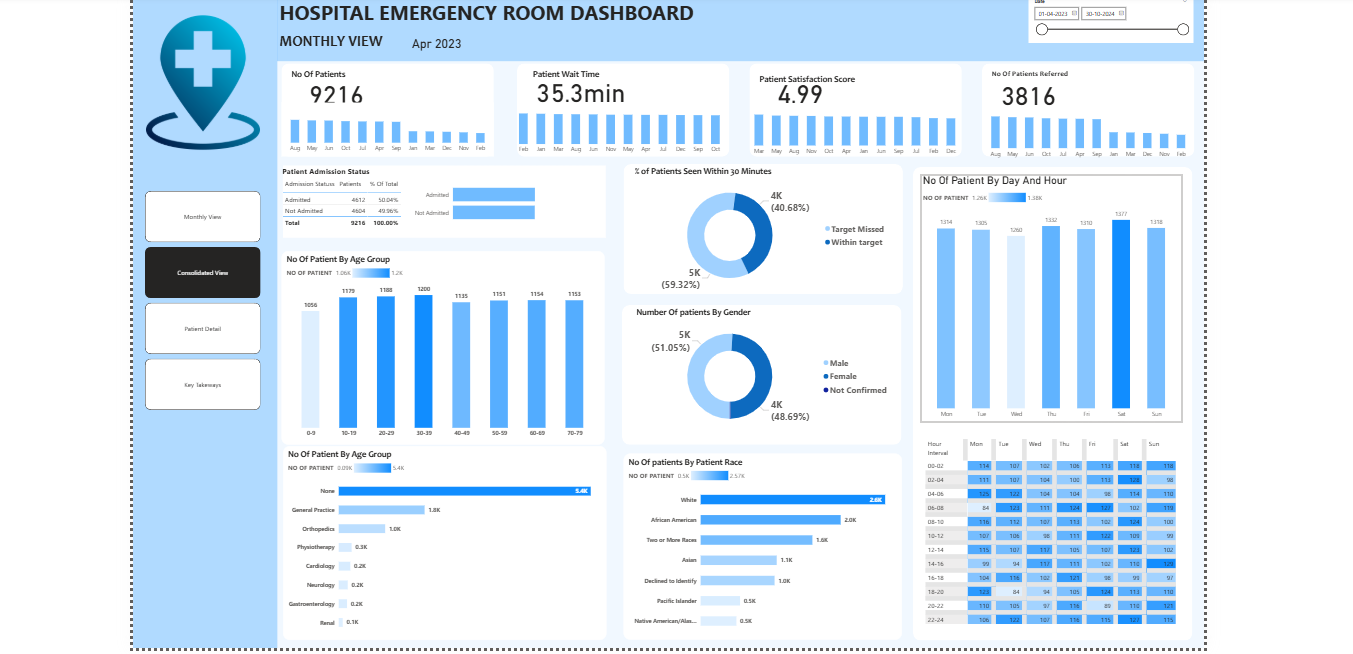

Layout of this report page (visuals, bound fields, positions):
{"tool":"powerbi","page":{"name":"Consolidated View","canvas":[2300,1400],"ordinal":1},"visuals":[{"type":"card","fields":{"Values":["Hospital ER_Data.NO OF PATIENT"]},"box":[176,162,518,88],"z":0,"group":"g1"},{"type":"shape","box":[825.3,146,456,200],"z":0},{"type":"shape","box":[0,0,310,1402],"z":1000},{"type":"areaChart","fields":{"Category":["Date Table.Date.Variation.Date Hierarchy.Day"],"Y":["Hospital ER_Data.NO OF PATIENT"]},"box":[496,364,456,140],"z":1000,"group":"g1"},{"type":"shape","box":[309.2,0,1990.5,140],"z":2000},{"type":"textbox","box":[309.2,0,1990.5,70.9],"z":3000},{"type":"textbox","box":[310,70,282,70],"z":4000},{"type":"shape","box":[320,146,456,200],"z":5000},{"type":"slicer","fields":{"Values":["Date Table.Date"]},"box":[1921.9,0,353.1,100],"z":6000},{"type":"textbox","box":[336,150,366,80],"z":7000},{"type":"card","fields":{"Values":["Hospital ER_Data.Avg Wait Time"]},"box":[702,158,518,88],"z":8000},{"type":"card","fields":{"Values":["Min(Date Table.MONTH_YEAR)"]},"box":[548,70,208,58],"z":9000},{"type":"group","id":"g1","title":"Group 1","box":[176,162,776,342],"z":10000},{"type":"shape","box":[1323.7,146,456,200],"z":11000},{"type":"shape","box":[1822,146,456,200],"z":12000},{"type":"textbox","box":[854,150,366,80],"z":13000},{"type":"columnChart","fields":{"Category":["Date Table.Month_name"],"Y":["Hospital ER_Data.NO OF PATIENT"]},"box":[320,230,456,116],"z":14000},{"type":"columnChart","fields":{"Category":["Date Table.Month_name"],"Y":["Avg(Hospital ER_Data.Patient Waittime)"]},"box":[809.4,231.2,471.9,115.6],"z":15000},{"type":"textbox","box":[1840,150,340,54],"z":16000},{"type":"card","fields":{"Values":["Avg(Hospital ER_Data.Patient Satisfaction Score)"]},"box":[1324,154,218,98],"z":17000},{"type":"columnChart","fields":{"Category":["Date Table.Month_name"],"Y":["Avg(Hospital ER_Data.Patient Satisfaction Score)"]},"box":[1315.6,231.2,471.9,118.8],"z":18000},{"type":"textbox","box":[1340,160,344,52],"z":19000},{"type":"columnChart","fields":{"Category":["Date Table.Month_name"],"Y":["Hospital ER_Data.NO OF PATIENT"]},"box":[1821.9,212.5,456.2,143.8],"z":20000},{"type":"card","fields":{"Values":["Hospital ER_Data.no of patients referred"]},"box":[1742,118,360,178],"z":21000},{"type":"shape","box":[320.7,365.5,693.1,155.2],"z":22000},{"type":"tableEx","title":"Patient Admission Status","fields":{"Values":["Hospital ER_Data.Admission Statuss","CountNonNull(Hospital ER_Data.Admission Statuss)","Divide(CountNonNull(Hospital ER_Data.Admission Statuss), ScopedEval(CountNonNull(Hospital ER_Data.Admission Statuss), []"]},"box":[316,364,276,140],"z":23000},{"type":"clusteredBarChart","fields":{"Category":["Hospital ER_Data.Admission Statuss"],"Y":["CountNonNull(Hospital ER_Data.Admission Statuss)"]},"box":[592,364,328,156],"z":24000},{"type":"clusteredColumnChart","title":"No Of Patient By Age Group","fields":{"Category":["Hospital ER_Data.Age Group"],"Y":["Hospital ER_Data.NO OF PATIENT"]},"box":[320,548,694,416],"z":25000},{"type":"clusteredBarChart","title":"No Of Patient By Age Group","fields":{"Category":["Hospital ER_Data.Department Referral"],"Y":["Hospital ER_Data.NO OF PATIENT"]},"box":[320.8,966,694.3,417],"z":26000},{"type":"shape","box":[1051.7,362.1,600,279.3],"z":27000},{"type":"donutChart","title":"% of Patients Seen Within 30 Minutes","fields":{"Category":["Hospital ER_Data.waitte status"],"Y":["Hospital ER_Data.NO OF PATIENT"]},"box":[1072.4,365.5,555.2,275.9],"z":28000},{"type":"shape","box":[1050.9,662.3,600,300],"z":29000},{"type":"donutChart","title":"Number Of patients By Gender","fields":{"Y":["Hospital ER_Data.NO OF PATIENT"],"Category":["Hospital ER_Data.Patient Gender"]},"box":[1075.5,666,556.6,275.5],"z":30000},{"type":"clusteredBarChart","title":"No Of patients By Patient Race","fields":{"Y":["Hospital ER_Data.NO OF PATIENT"],"Category":["Hospital ER_Data.Patient Race"]},"box":[1052.8,983,598.1,400],"z":31000},{"type":"shape","box":[1673.6,366,600,1017],"z":32000},{"type":"pivotTable","fields":{"Rows":["Hospital ER_Data.Hour Interval"],"Columns":["Date Table.Day Name"],"Values":["Hospital ER_Data.NO OF PATIENT"]},"box":[1692.5,941.5,562.3,441.5],"z":33000},{"type":"clusteredColumnChart","title":"No Of Patient By  Day And Hour","fields":{"Category":["Date Table.Day Name"],"Y":["Hospital ER_Data.NO OF PATIENT"]},"box":[1692.5,383,562.3,532.1],"z":34000},{"type":"image","box":[0,34.5,300,300],"z":35000},{"type":"pageNavigator","box":[26,418,248,470],"z":36000}]}

Visuals, with their boxes on the page's 2300x1400 design canvas (x1, y1, x2, y2). These are canvas units, not pixel positions in the 1353x654 screenshot, which may show the page scaled, cropped or inside an application window:
card - Hospital ER_Data.NO OF PATIENT: [left=176, top=162, right=694, bottom=250]
shape: [left=825, top=146, right=1281, bottom=346]
shape: [left=0, top=0, right=310, bottom=1402]
areaChart - Date Table.Date.Variation.Date Hierarchy.Day x Hospital ER_Data.NO OF PATIENT: [left=496, top=364, right=952, bottom=504]
shape: [left=309, top=0, right=2300, bottom=140]
textbox: [left=309, top=0, right=2300, bottom=71]
textbox: [left=310, top=70, right=592, bottom=140]
shape: [left=320, top=146, right=776, bottom=346]
slicer - Date Table.Date: [left=1922, top=0, right=2275, bottom=100]
textbox: [left=336, top=150, right=702, bottom=230]
card - Hospital ER_Data.Avg Wait Time: [left=702, top=158, right=1220, bottom=246]
card - Min(Date Table.MONTH_YEAR): [left=548, top=70, right=756, bottom=128]
"Group 1" group: [left=176, top=162, right=952, bottom=504]
shape: [left=1324, top=146, right=1780, bottom=346]
shape: [left=1822, top=146, right=2278, bottom=346]
textbox: [left=854, top=150, right=1220, bottom=230]
columnChart - Date Table.Month_name x Hospital ER_Data.NO OF PATIENT: [left=320, top=230, right=776, bottom=346]
columnChart - Date Table.Month_name x Avg(Hospital ER_Data.Patient Waittime): [left=809, top=231, right=1281, bottom=347]
textbox: [left=1840, top=150, right=2180, bottom=204]
card - Avg(Hospital ER_Data.Patient Satisfaction Score): [left=1324, top=154, right=1542, bottom=252]
columnChart - Date Table.Month_name x Avg(Hospital ER_Data.Patient Satisfaction Score): [left=1316, top=231, right=1788, bottom=350]
textbox: [left=1340, top=160, right=1684, bottom=212]
columnChart - Date Table.Month_name x Hospital ER_Data.NO OF PATIENT: [left=1822, top=212, right=2278, bottom=356]
card - Hospital ER_Data.no of patients referred: [left=1742, top=118, right=2102, bottom=296]
shape: [left=321, top=366, right=1014, bottom=521]
"Patient Admission Status" tableEx: [left=316, top=364, right=592, bottom=504]
clusteredBarChart - Hospital ER_Data.Admission Statuss x CountNonNull(Hospital ER_Data.Admission Statuss): [left=592, top=364, right=920, bottom=520]
"No Of Patient By Age Group" clusteredColumnChart: [left=320, top=548, right=1014, bottom=964]
"No Of Patient By Age Group" clusteredBarChart: [left=321, top=966, right=1015, bottom=1383]
shape: [left=1052, top=362, right=1652, bottom=641]
"% of Patients Seen Within 30 Minutes" donutChart: [left=1072, top=366, right=1628, bottom=641]
shape: [left=1051, top=662, right=1651, bottom=962]
"Number Of patients By Gender" donutChart: [left=1076, top=666, right=1632, bottom=942]
"No Of patients By Patient Race" clusteredBarChart: [left=1053, top=983, right=1651, bottom=1383]
shape: [left=1674, top=366, right=2274, bottom=1383]
pivotTable - Hospital ER_Data.Hour Interval x Date Table.Day Name: [left=1692, top=942, right=2255, bottom=1383]
"No Of Patient By  Day And Hour" clusteredColumnChart: [left=1692, top=383, right=2255, bottom=915]
image: [left=0, top=34, right=300, bottom=334]
pageNavigator: [left=26, top=418, right=274, bottom=888]
